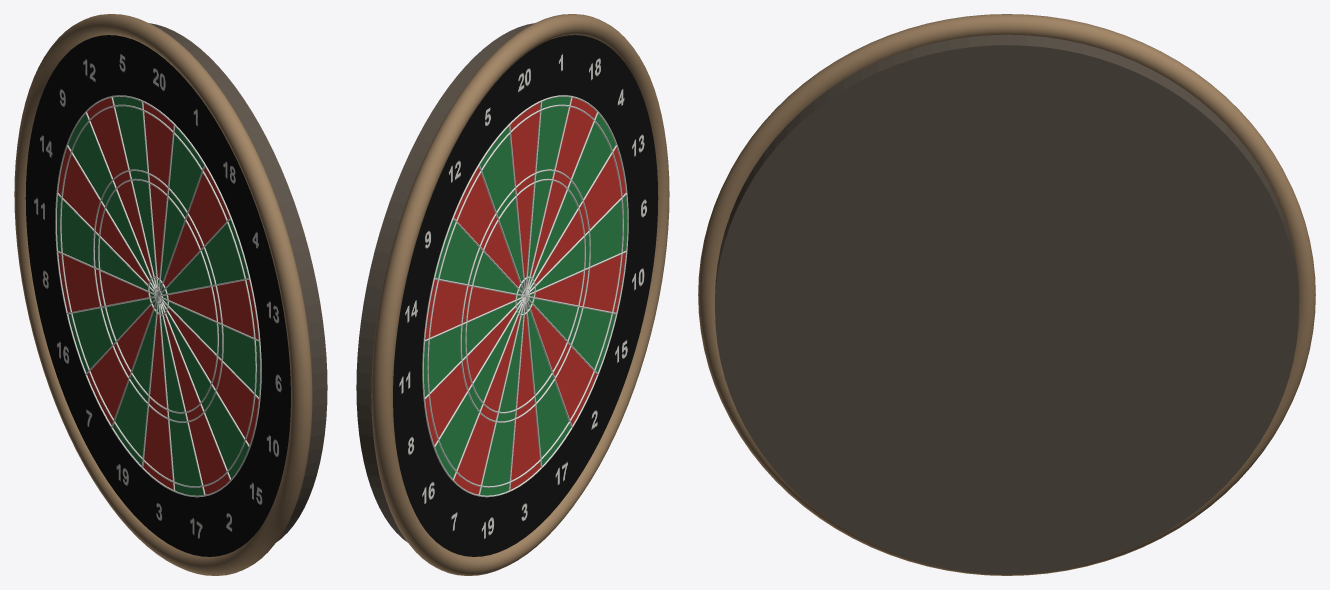
Rendered from dartboard.glb.
The picture shows the model from 3 angles, left to right: view 1: azimuth 30°, elevation 25°; view 2: azimuth 150°, elevation 25°; view 3: azimuth 270°, elevation 25°; orthographic projection. The views are drawn at different scales.
Visible parts, largest first — view 1: board_face, board_rim, board_body, wire_ring.005, wire_ring.004, wire_ring.003, wire_ring.002, wire.008, wire.018, wire.009, wire.019, wire.007 (+1 smaller); view 2: board_face, board_rim, board_body, wire_ring.005, wire_ring.004, wire_ring.003, wire_ring.002, wire.011, wire.001, wire, wire.010, wire.012 (+1 smaller); view 3: board_body, board_rim.
Part boxes in pixels (left/top/right/bottom): board_face: left=25, top=35, right=290, bottom=556; board_rim: left=14, top=14, right=312, bottom=575; board_body: left=149, top=23, right=327, bottom=542; wire_ring.005: left=55, top=95, right=261, bottom=497; wire_ring.004: left=60, top=104, right=256, bottom=487; wire_ring.003: left=93, top=169, right=223, bottom=422; wire_ring.002: left=98, top=178, right=218, bottom=413; wire.008: left=111, top=97, right=157, bottom=294; wire.018: left=158, top=298, right=205, bottom=495; wire.009: left=141, top=101, right=158, bottom=294; wire.019: left=157, top=297, right=175, bottom=490; wire.007: left=85, top=112, right=157, bottom=294; board_face: left=393, top=35, right=658, bottom=556; board_rim: left=371, top=14, right=669, bottom=575; board_body: left=356, top=23, right=534, bottom=542; wire_ring.005: left=422, top=95, right=628, bottom=497; wire_ring.004: left=427, top=104, right=623, bottom=487; wire_ring.003: left=460, top=169, right=590, bottom=422; wire_ring.002: left=465, top=178, right=585, bottom=413; wire.011: left=526, top=97, right=572, bottom=294; wire.001: left=478, top=298, right=525, bottom=495; wire: left=508, top=297, right=526, bottom=490; wire.010: left=525, top=101, right=542, bottom=294; wire.012: left=526, top=112, right=598, bottom=294; board_body: left=715, top=34, right=1298, bottom=574; board_rim: left=698, top=14, right=1315, bottom=575.
Bounding box in the file's own units: 0.036 × 0.477 × 0.477.
Materials: 4 (1 with a texture image).
